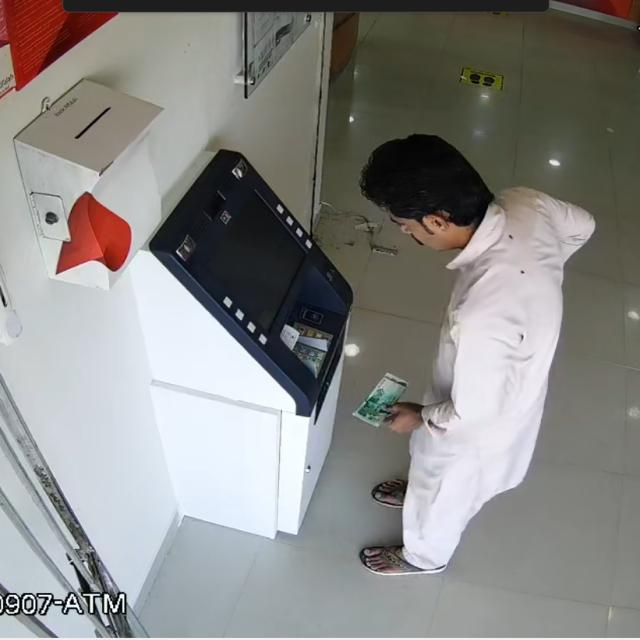note: (342, 366, 417, 442)
